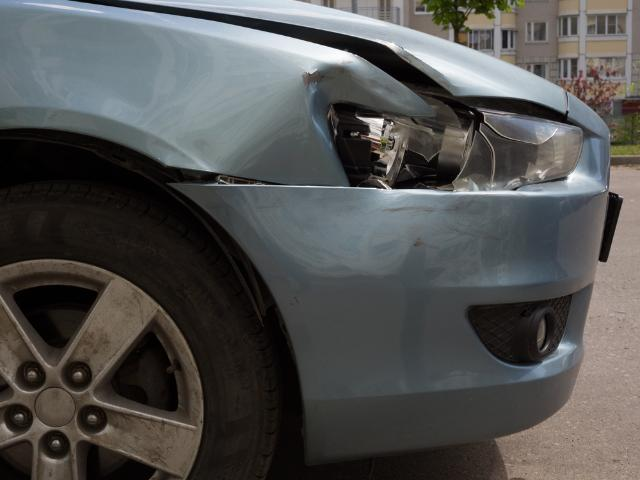dent: (238, 64, 401, 186)
lamp broken: (327, 91, 586, 190)
